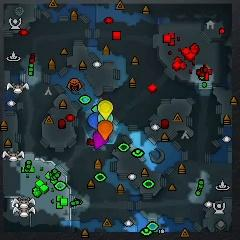p1: (88, 113, 99, 131)
p2: (97, 113, 113, 123)
p3: (93, 131, 109, 150)
p4: (97, 100, 113, 119)
p5: (97, 119, 113, 141)
